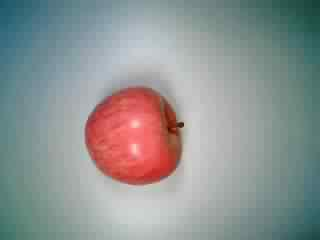apple: (82, 83, 186, 187)
